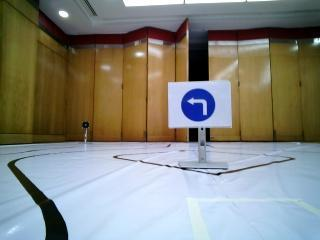left: (169, 80, 228, 127)
